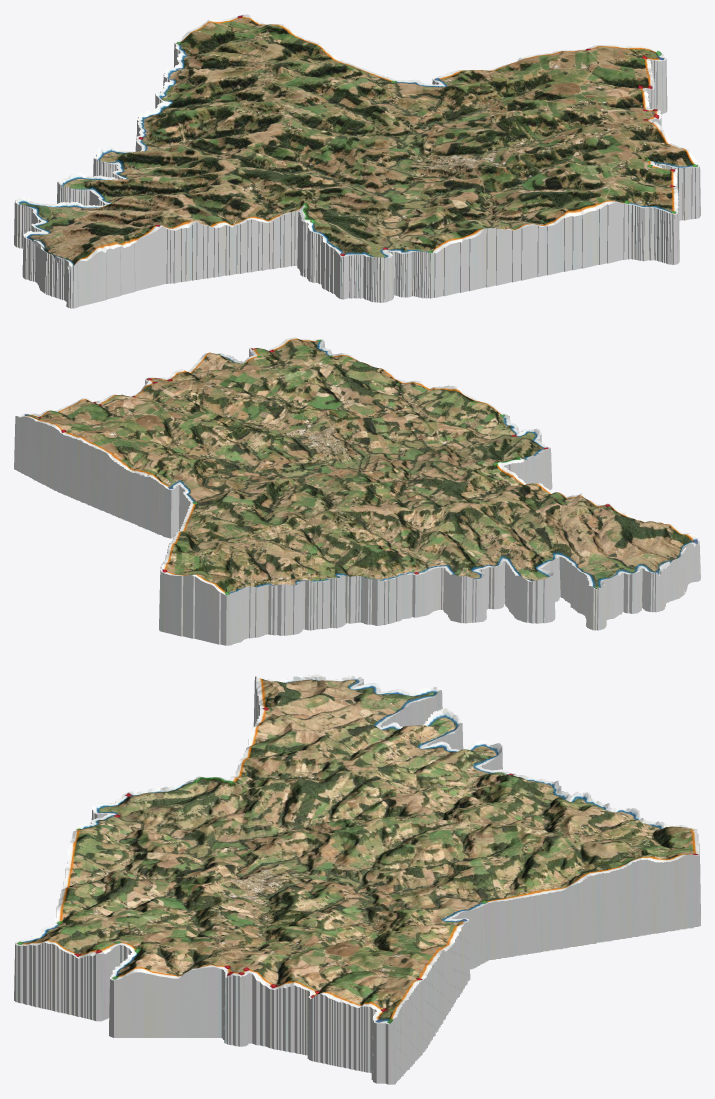
3 views of the same model, one above another, from view 1: azimuth 30°, elevation 25°; view 2: azimuth 150°, elevation 25°; view 3: azimuth 270°, elevation 25° (orthographic). The views are drawn at different scales.
Size of the model in its own units: 0.9999 by 0.0969 by 0.7977.
Materials: 1 (1 with a texture image).
